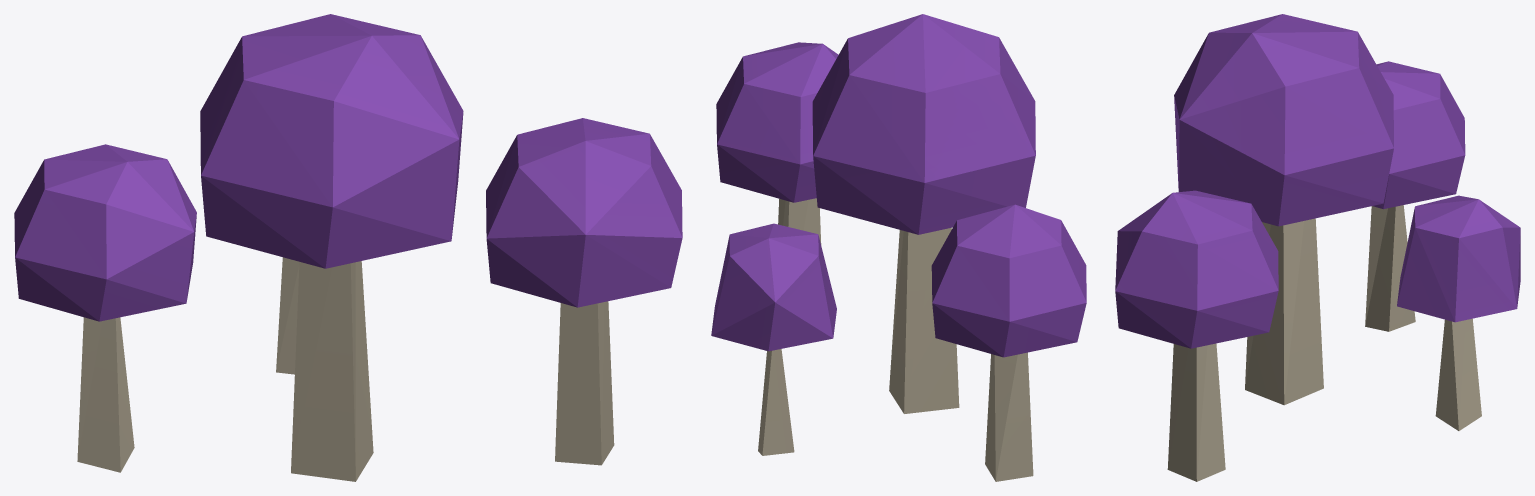
The model's file is prop_mushroom_lod2.glb.
3 renders of one model, left to right at view 1: azimuth 30°, elevation 25°; view 2: azimuth 150°, elevation 25°; view 3: azimuth 270°, elevation 25°, orthographic. The views are drawn at different scales.
Visible parts, largest first — view 1: prop_mushroom_lod2; view 2: prop_mushroom_lod2; view 3: prop_mushroom_lod2.
Part boxes in pixels (<box>): prop_mushroom_lod2: <box>14,14,682,481</box>; prop_mushroom_lod2: <box>711,14,1086,481</box>; prop_mushroom_lod2: <box>1115,14,1520,481</box>.
Size of the model in its own units: 0.6086 by 0.4665 by 0.4641.
